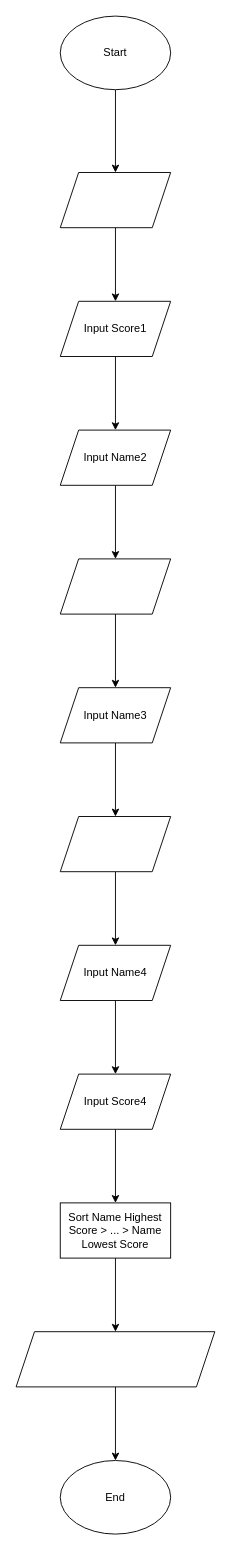
This 231x1550 diagram has some shape labels left out. The centre of each missing label's shape, as x and y in pixels:
Input Name1: point 115,200
Input Score2: point 115,586
Input Score3: point 115,844
Output Name Highest Score > ... > Name Lowest Score: point 115,1359
